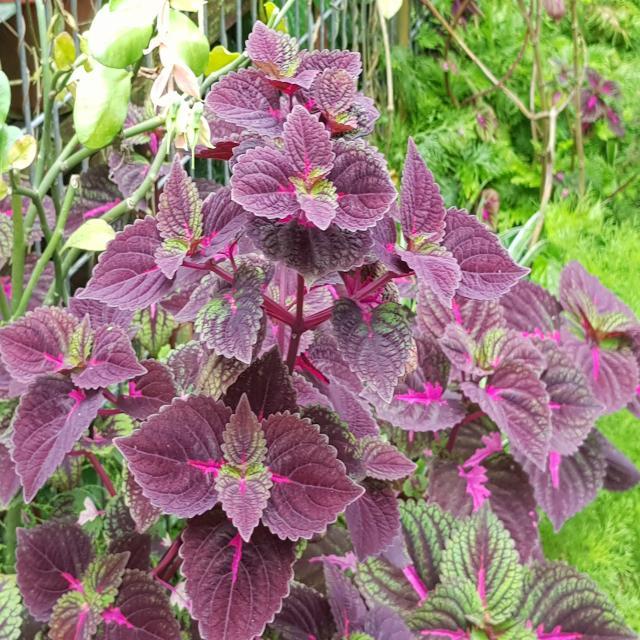Coleus: (7, 297, 432, 631), (157, 16, 409, 358), (476, 260, 631, 525), (569, 65, 628, 147)
